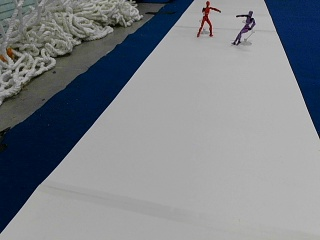pedestrian: (197, 1, 220, 37), (233, 9, 255, 44)
